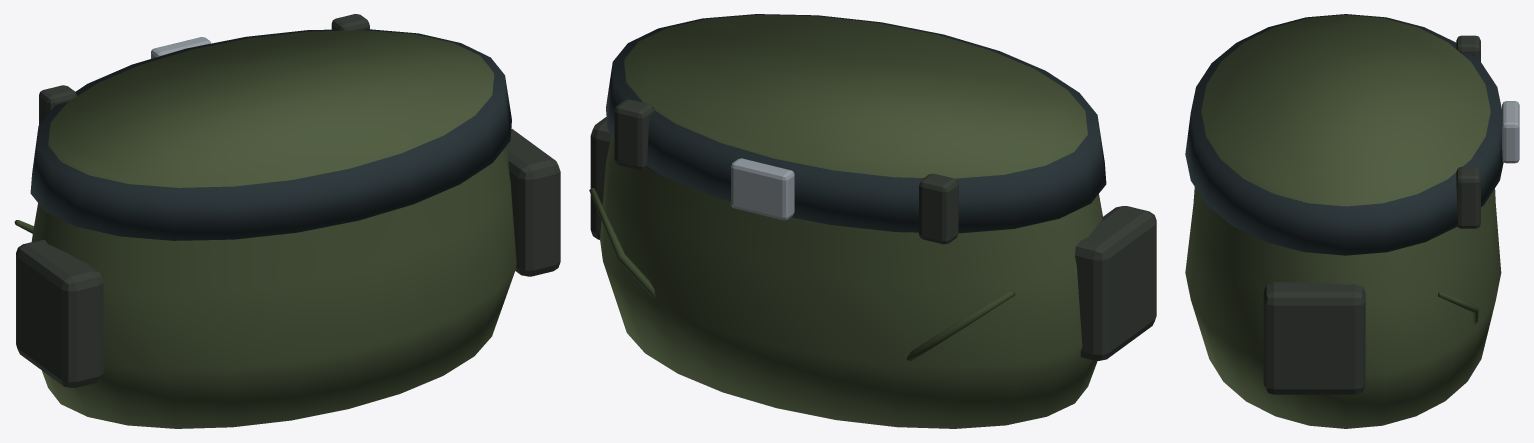
The model's file is CharPelvis.glb.
The picture shows the model from 3 angles, left to right: view 1: azimuth 30°, elevation 25°; view 2: azimuth 150°, elevation 25°; view 3: azimuth 270°, elevation 25°; orthographic projection. The views are drawn at different scales.
Parts seen in each view (by area): view 1: CharPelvis; view 2: CharPelvis; view 3: CharPelvis.
Boxes of the visible parts, x1,y1,x2,y2 form: CharPelvis: (14,14,560,428); CharPelvis: (589,14,1156,428); CharPelvis: (1185,14,1519,428).
Size of the model in its own units: 0.388 by 0.1855 by 0.2455.
